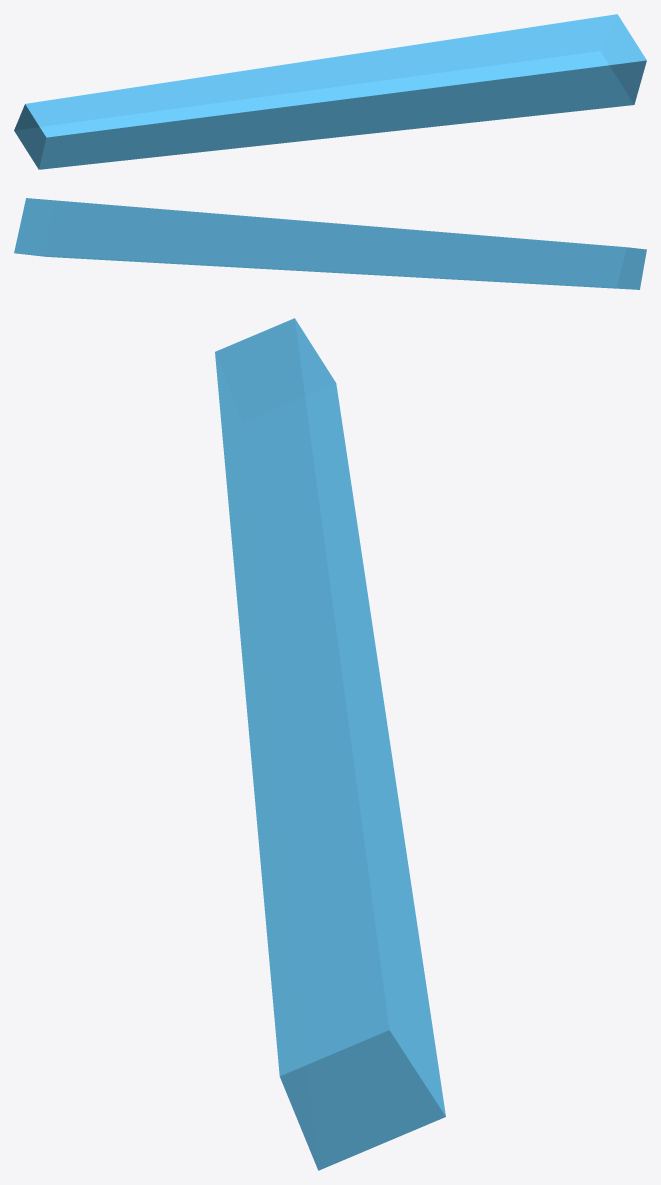
File: Event_420107950_HErechit_27.fbx
3 renders of one model, top to bottom at view 1: azimuth 30°, elevation 25°; view 2: azimuth 150°, elevation 25°; view 3: azimuth 270°, elevation 25°, orthographic. The views are drawn at different scales.
Parts seen in each view (by area): view 1: Model; view 2: Model; view 3: Model.
Boxes of the visible parts, x1,y1,x2,y2 form: Model: (14,14,646,169); Model: (14,198,646,289); Model: (215,318,445,1170).
Size of the model in its own units: 3.81 by 0.9181 by 0.6601.
